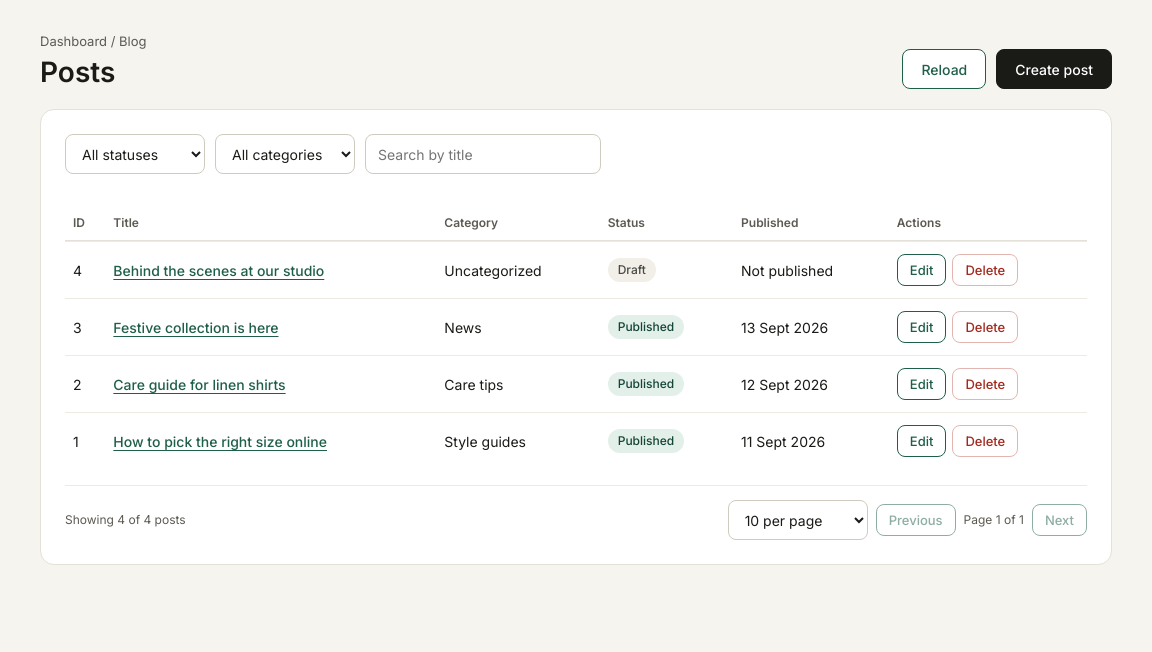
Test case: Posts › auto-fills the permalink and saves a new post with a category and tag
Click the button "Create post".
click(1054, 69)  # box [996,49,1112,89]
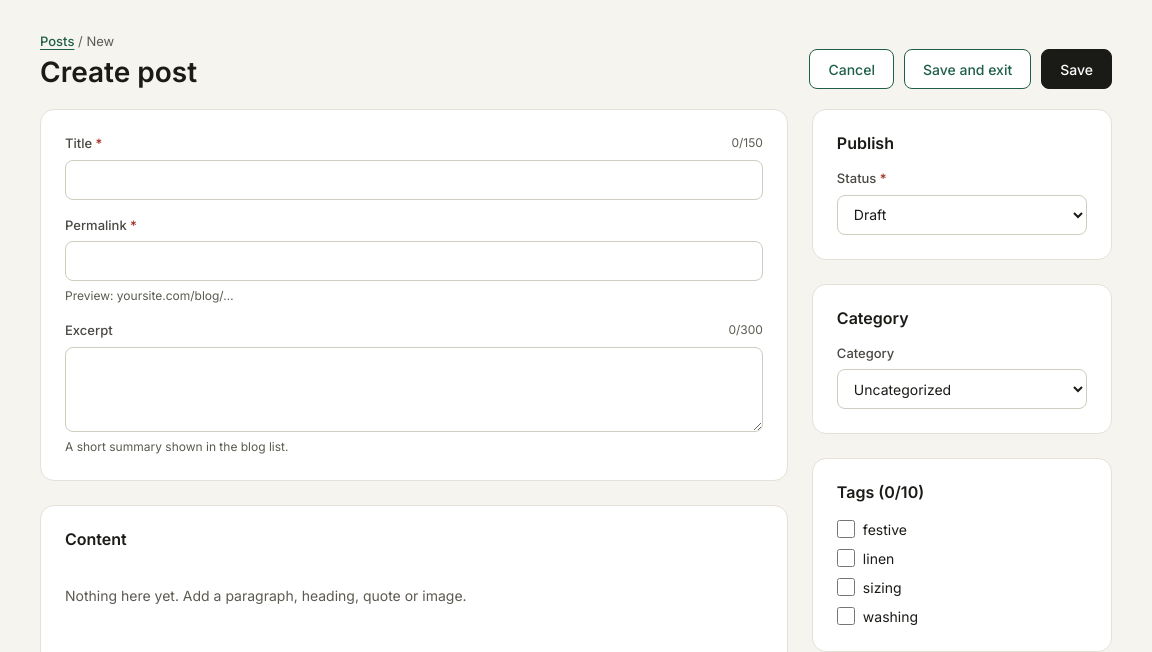
Type "Winter Jackets 2026" into the field labelled "Title *".
click(414, 180); type("Winter Jackets 2026")  # box [65,160,763,200]
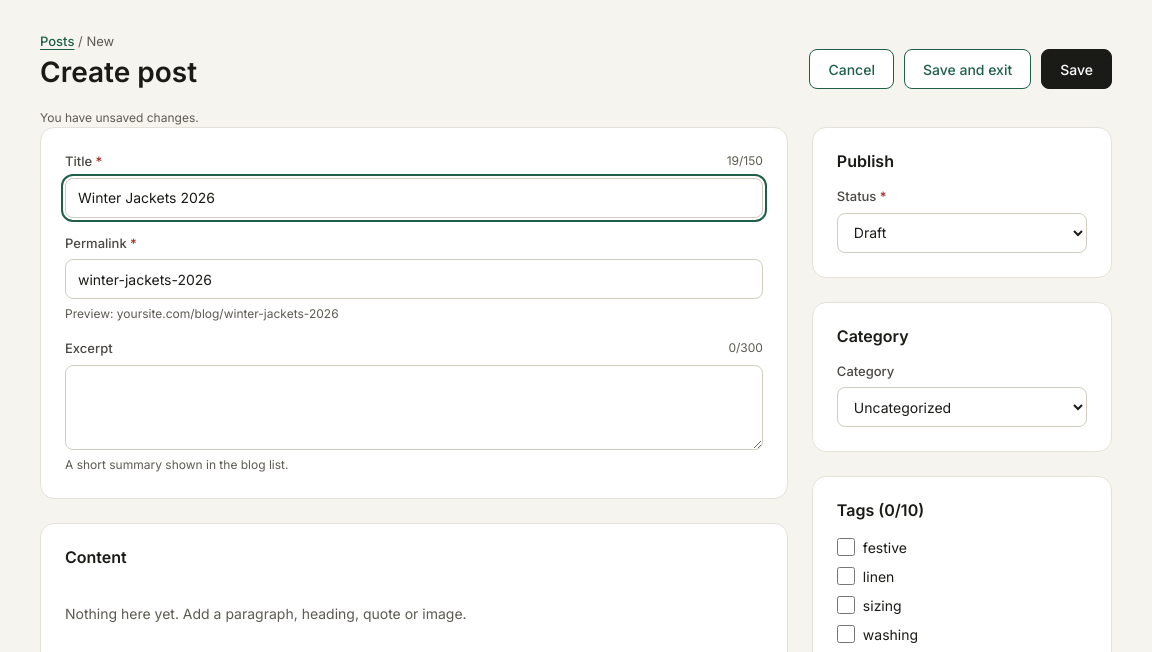
Expected: the field labelled "Permalink *" holds "winter-jackets-2026", [65,259,763,299]
Select "News" in the dropdown labelled "Category" at (962, 408), box [837,388,1087,428]
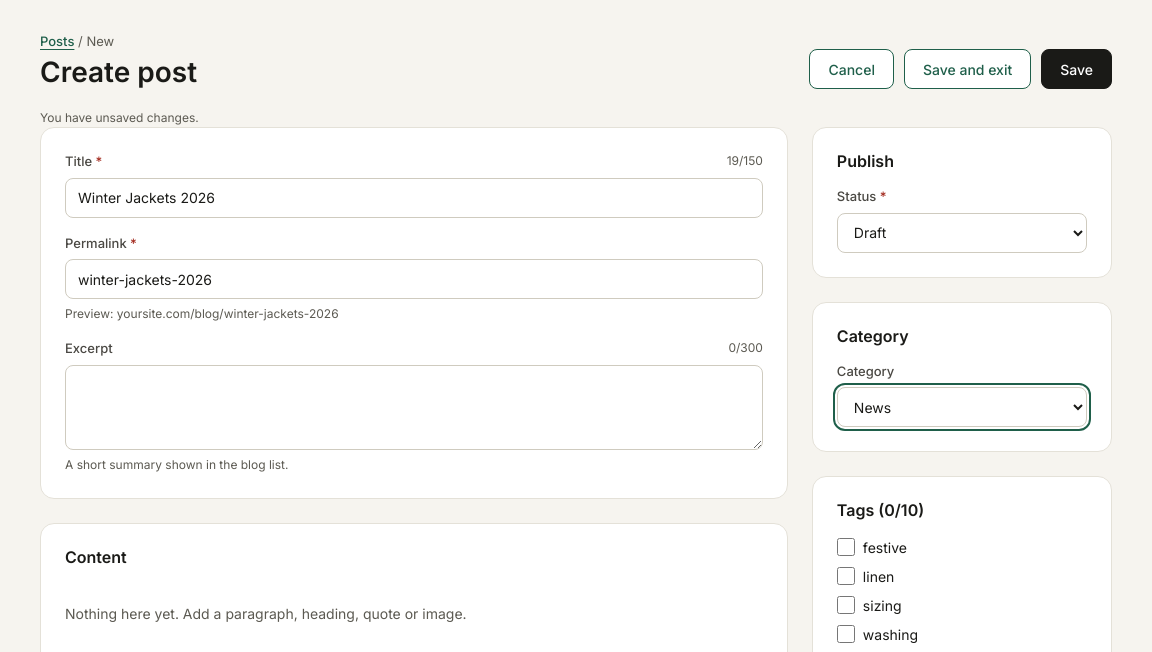
Click the checkbox labelled "linen".
click(846, 576)  # box [837,567,855,585]
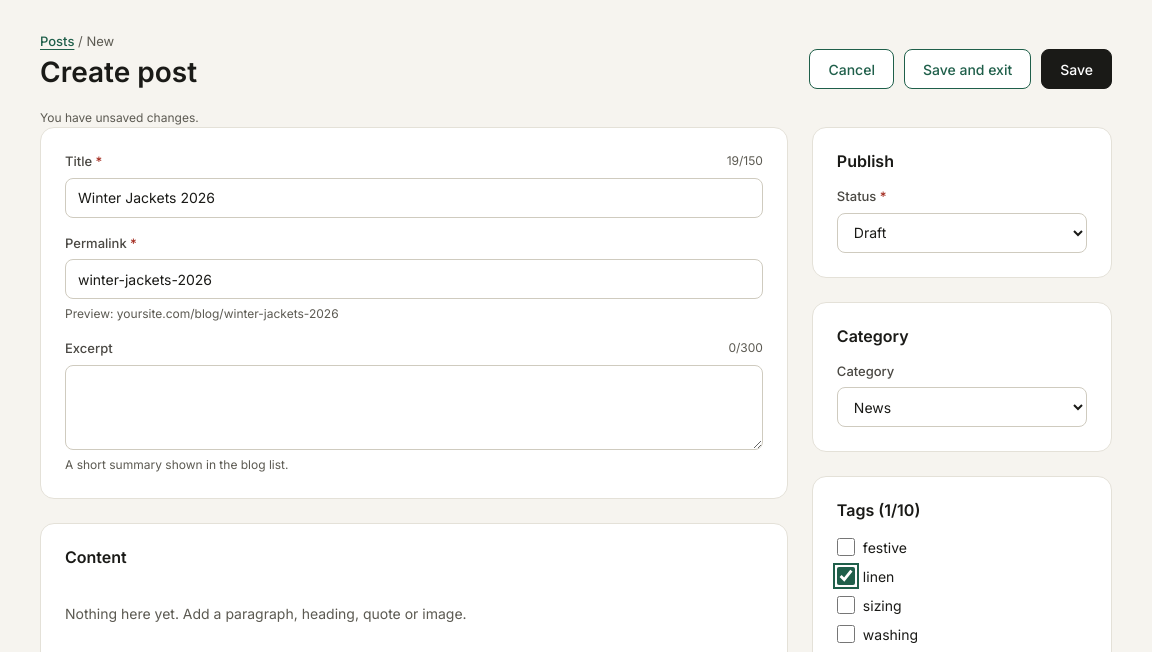
Click the button "Save".
click(1077, 69)  # box [1041,49,1112,89]
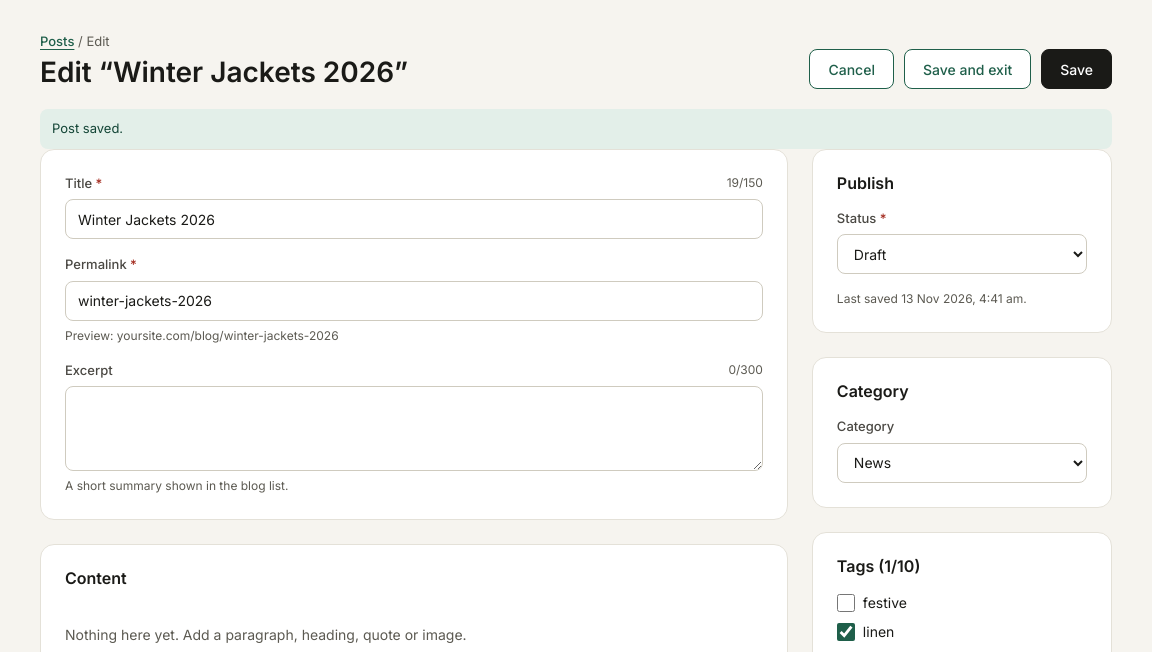
Expected: the text "Post saved." is shown, [40,109,1112,149]
Expected: the heading "Edit “Winter Jackets 2026”" is shown, [40,56,408,89]
